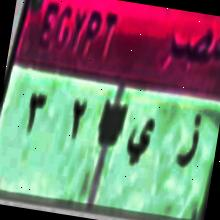2: (61, 95, 97, 151)
3: (18, 87, 50, 135)
yaa: (124, 114, 158, 167)
zay: (172, 106, 206, 178)
